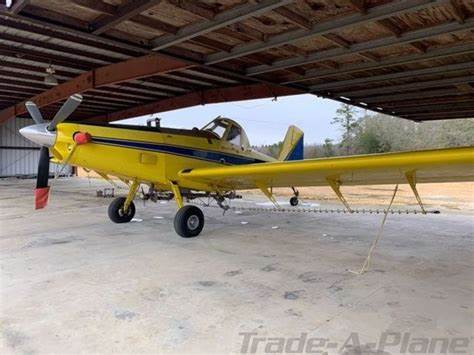Aeronef_de_service: (11, 93, 474, 239)
